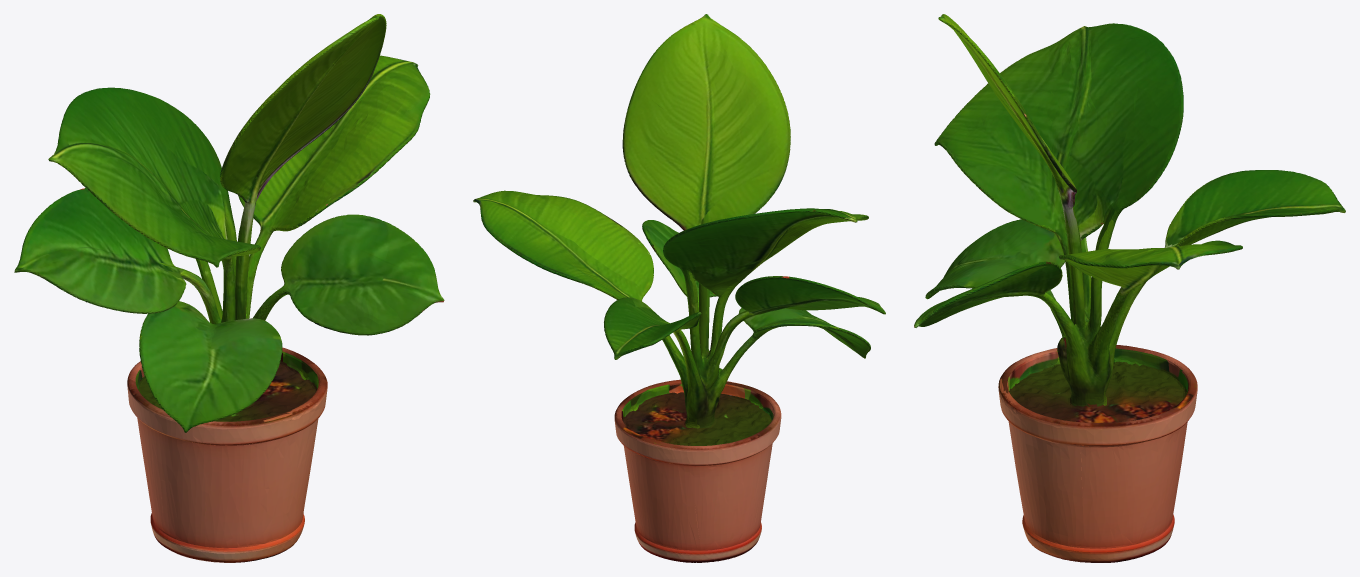
Rendered from biomechanical-growth-planter-generated-2026-04-18T02-38-02-192Z.high.glb.
The picture shows the model from 3 angles, left to right: view 1: azimuth 30°, elevation 25°; view 2: azimuth 150°, elevation 25°; view 3: azimuth 270°, elevation 25°; orthographic projection. The views are drawn at different scales.
Parts seen in each view (by area): view 1: temp_mesh.ply; view 2: temp_mesh.ply; view 3: temp_mesh.ply.
Boxes of the visible parts, x1,y1,x2,y2 form: temp_mesh.ply: (14,14,444,562); temp_mesh.ply: (473,14,885,562); temp_mesh.ply: (914,14,1345,562).
Size of the model in its own units: 1.67 by 1.97 by 1.4.
1 material, 1 textured.
